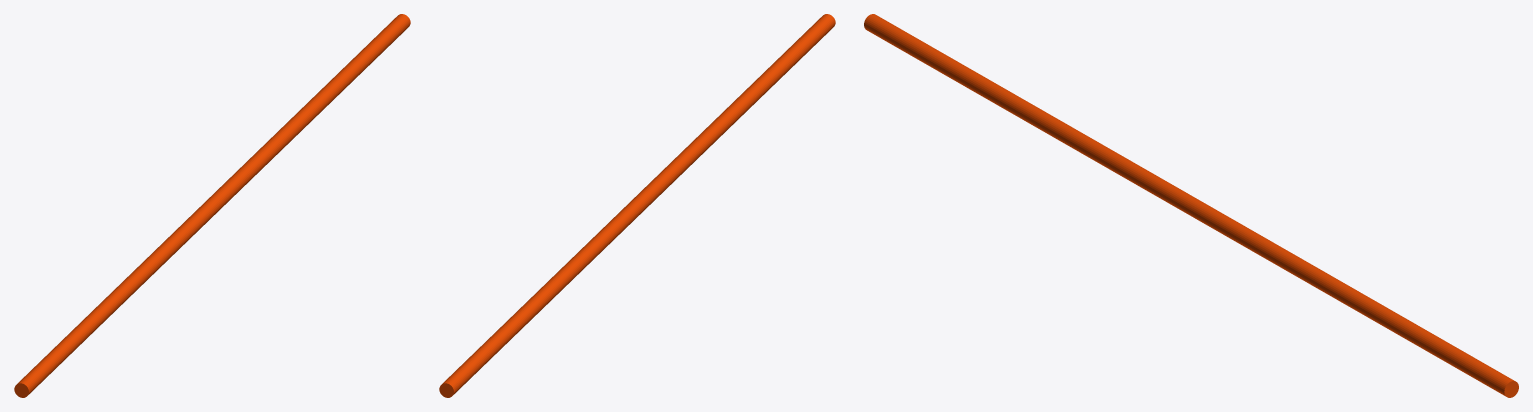
3 renders of one model, left to right at view 1: azimuth 30°, elevation 25°; view 2: azimuth 210°, elevation 25°; view 3: azimuth 270°, elevation 25°, orthographic. The views are drawn at different scales.
Visible parts, largest first — view 1: Cylinder.003; view 2: Cylinder.003; view 3: Cylinder.003.
Part boxes in pixels (x1=…): Cylinder.003: x1=14, y1=14, x2=410, y2=397; Cylinder.003: x1=439, y1=14, x2=835, y2=397; Cylinder.003: x1=864, y1=14, x2=1518, y2=397.
Bounding box in the file's own units: 2.37 × 0.0487 × 1.76.
